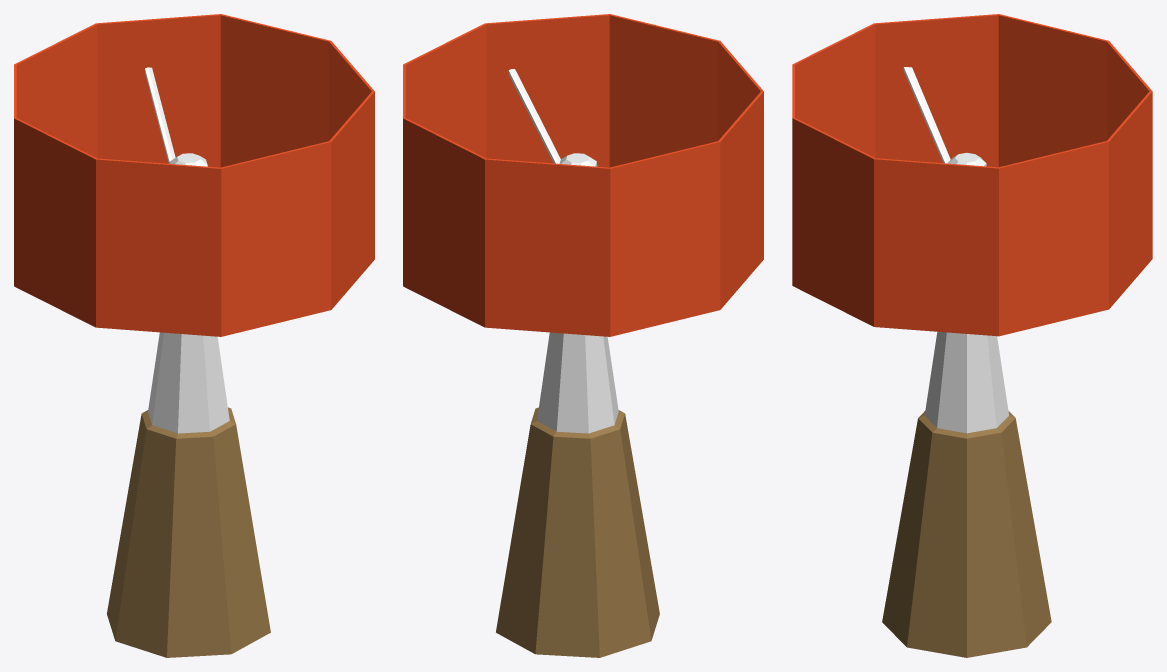
Rendered from лампа с торшером.fbx.
The picture shows the model from 3 angles, left to right: view 1: azimuth 30°, elevation 25°; view 2: azimuth 150°, elevation 25°; view 3: azimuth 270°, elevation 25°; orthographic projection.
Visible parts, largest first — view 1: Cylinder.047; view 2: Cylinder.047; view 3: Cylinder.047.
Boxes of the visible parts, x1,y1,x2,y2 form: Cylinder.047: (14,14,374,657); Cylinder.047: (403,14,763,657); Cylinder.047: (792,14,1152,657).
Size of the model in its own units: 475 by 760 by 468.
